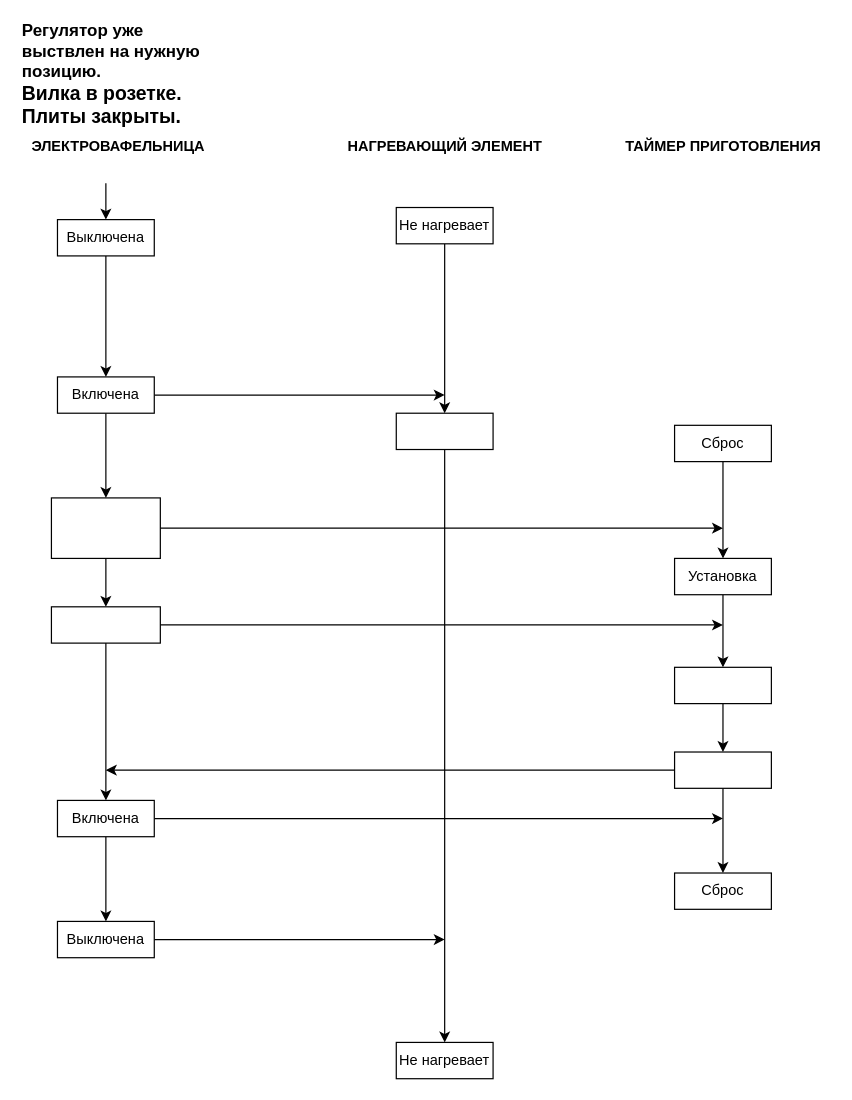
Some shapes in this 852 by 1100 pixel diagram are drawn without their labels. Each missing label, with the centre of its shape:
"Нагревает" goes at (444,431).
"Отсчет" goes at (722,685).
"Подача сигнала" goes at (722,769).
"Работает" goes at (105,624).
"Установлен таймер приготовления" goes at (105,527).
